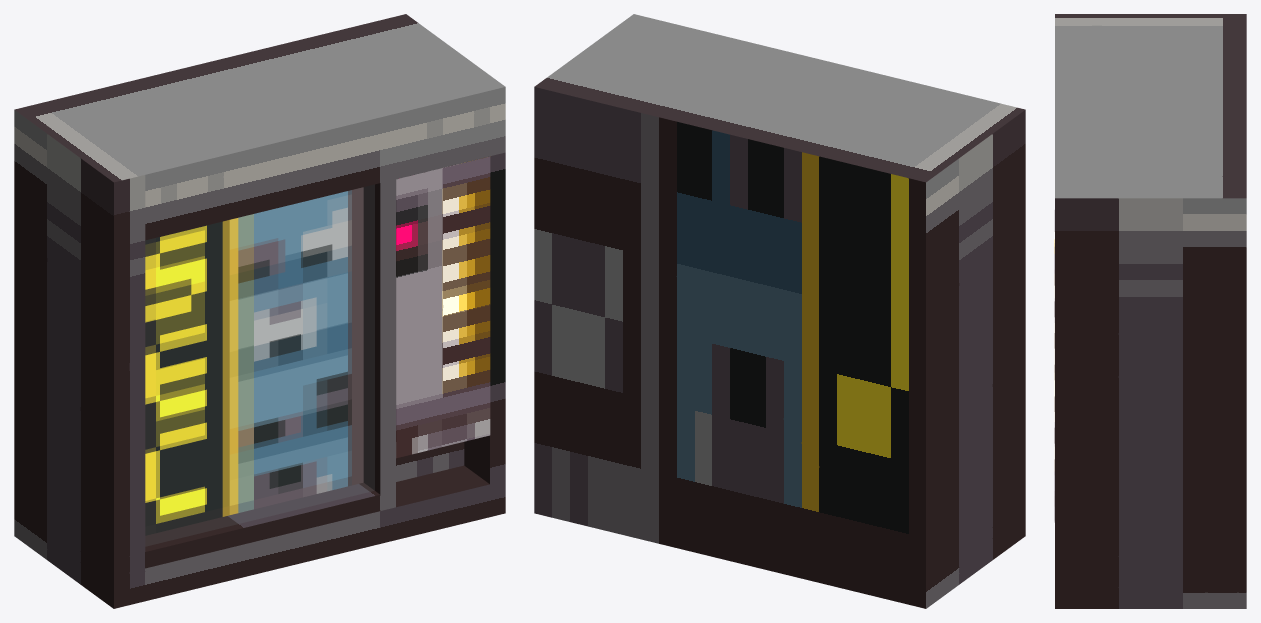
Rendered from vending_sec.glb.
The picture shows the model from 3 angles, left to right: view 1: azimuth 30°, elevation 25°; view 2: azimuth 150°, elevation 25°; view 3: azimuth 270°, elevation 25°; orthographic projection. The views are drawn at different scales.
Visible parts, largest first — view 1: vending_sec_Cabinet, vending_sec, vending_sec_Display_Glass, vending_sec_Delivery_Flap; view 2: vending_sec_Cabinet; view 3: vending_sec_Cabinet, vending_sec.
Part boxes in pixels (box(x1,y1,x2,y2)): vending_sec_Cabinet: box(14, 14, 505, 608); vending_sec: box(145, 156, 490, 535); vending_sec_Display_Glass: box(146, 185, 374, 545); vending_sec_Delivery_Flap: box(396, 442, 464, 481); vending_sec_Cabinet: box(534, 14, 1025, 608); vending_sec_Cabinet: box(1055, 14, 1246, 608); vending_sec: box(1054, 210, 1054, 522).
Size of the model in its own units: 1.5 by 1.56 by 0.662.
4 materials, 3 textured.
